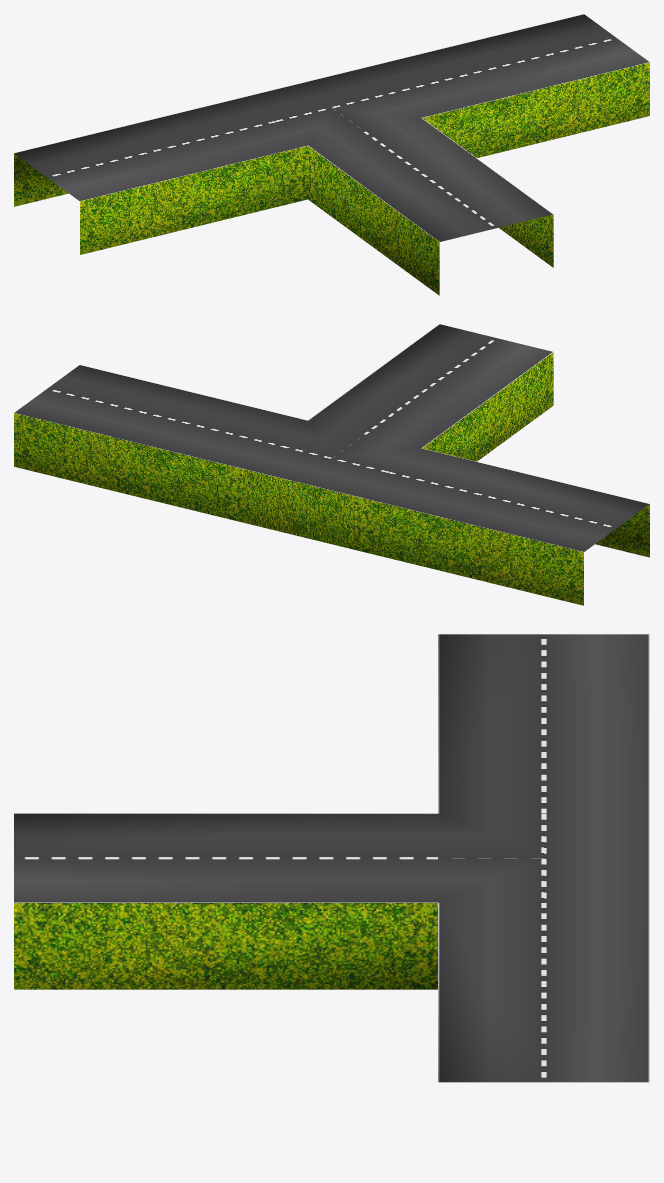
File: t-splitsing_weg_0.fbx
3 views of the same model, one above another, from view 1: azimuth 30°, elevation 25°; view 2: azimuth 150°, elevation 25°; view 3: azimuth 270°, elevation 25° (orthographic). The views are drawn at different scales.
Parts seen in each view (by area): view 1: weg_0; view 2: weg_0; view 3: weg_0.
Boxes of the visible parts, box(x1,y1,x2,y2) form: weg_0: box(14, 14, 649, 295); weg_0: box(14, 324, 649, 605); weg_0: box(14, 634, 649, 1082).
Bounding box in the file's own units: 2500 × 225 × 1500.
